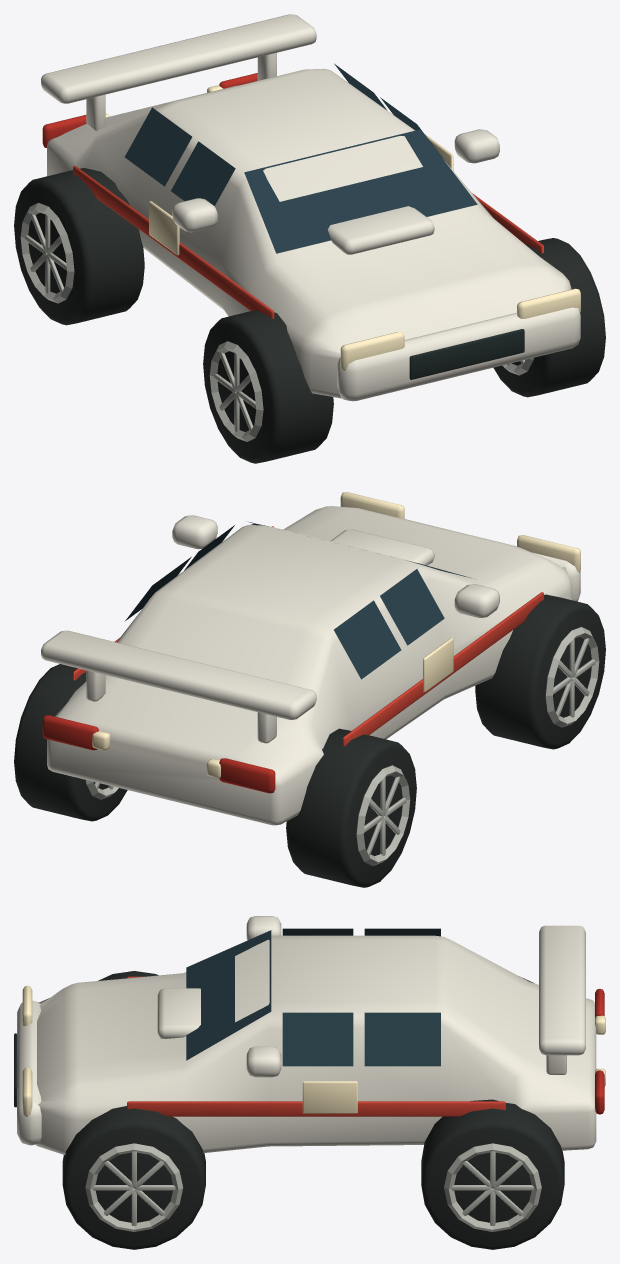
The model's file is car-2.glb.
3 views of the same model, one above another, from view 1: azimuth 30°, elevation 25°; view 2: azimuth 150°, elevation 25°; view 3: azimuth 270°, elevation 25° (orthographic). The views are drawn at different scales.
Visible parts, largest first — view 1: body_surface.002, side_window.002, flat_tyre.009, flat_tyre.008, flat_tyre.010, rally_stripe.002, rim.008, rim.009, intake.002, door_number.002, headlamp_-0.002, headlamp_0.002 (+1 smaller); view 2: body_surface.002, flat_tyre.009, flat_tyre.008, flat_tyre.011, side_window.002, rim.008, rim.009, rally_stripe.002, taillamp_-0.002, taillamp_0.002, door_number.002, headlamp_-0.002 (+1 smaller); view 3: body_surface.002, side_window.002, flat_tyre.011, flat_tyre.010, rally_stripe.002, rim.011, rim.010, door_number.002, headlamp_0.002.
Part boxes in pixels (x1,y1,x2,y2): body_surface.002: [41, 14, 580, 401]; side_window.002: [125, 63, 477, 253]; flat_tyre.009: [14, 168, 144, 325]; flat_tyre.008: [203, 310, 333, 463]; flat_tyre.010: [493, 238, 605, 397]; rally_stripe.002: [73, 166, 543, 318]; rim.008: [209, 341, 263, 441]; rim.009: [20, 203, 74, 303]; intake.002: [409, 329, 524, 379]; door_number.002: [149, 134, 453, 255]; headlamp_-0.002: [340, 332, 404, 370]; headlamp_0.002: [517, 288, 580, 318]; body_surface.002: [41, 506, 580, 825]; flat_tyre.009: [286, 728, 416, 887]; flat_tyre.008: [475, 594, 605, 749]; flat_tyre.011: [14, 664, 127, 821]; side_window.002: [125, 522, 471, 679]; rim.008: [545, 627, 599, 727]; rim.009: [356, 765, 410, 865]; rally_stripe.002: [73, 526, 543, 746]; taillamp_-0.002: [219, 758, 275, 793]; taillamp_0.002: [42, 715, 98, 750]; door_number.002: [178, 573, 453, 692]; headlamp_-0.002: [517, 535, 580, 572]; body_surface.002: [17, 916, 596, 1154]; side_window.002: [186, 928, 440, 1066]; flat_tyre.011: [421, 1099, 564, 1249]; flat_tyre.010: [62, 1106, 205, 1249]; rally_stripe.002: [127, 976, 505, 1116]; rim.011: [444, 1143, 541, 1231]; rim.010: [85, 1143, 183, 1231]; door_number.002: [302, 1081, 357, 1113]; headlamp_0.002: [22, 1067, 32, 1116].
Bounding box in the file's own units: 2.72 × 1.64 × 4.29.
